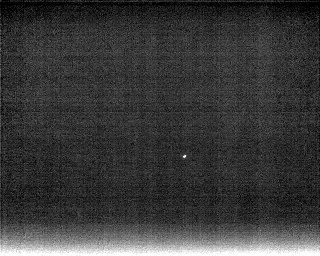BIRD: (180, 151, 189, 161)
